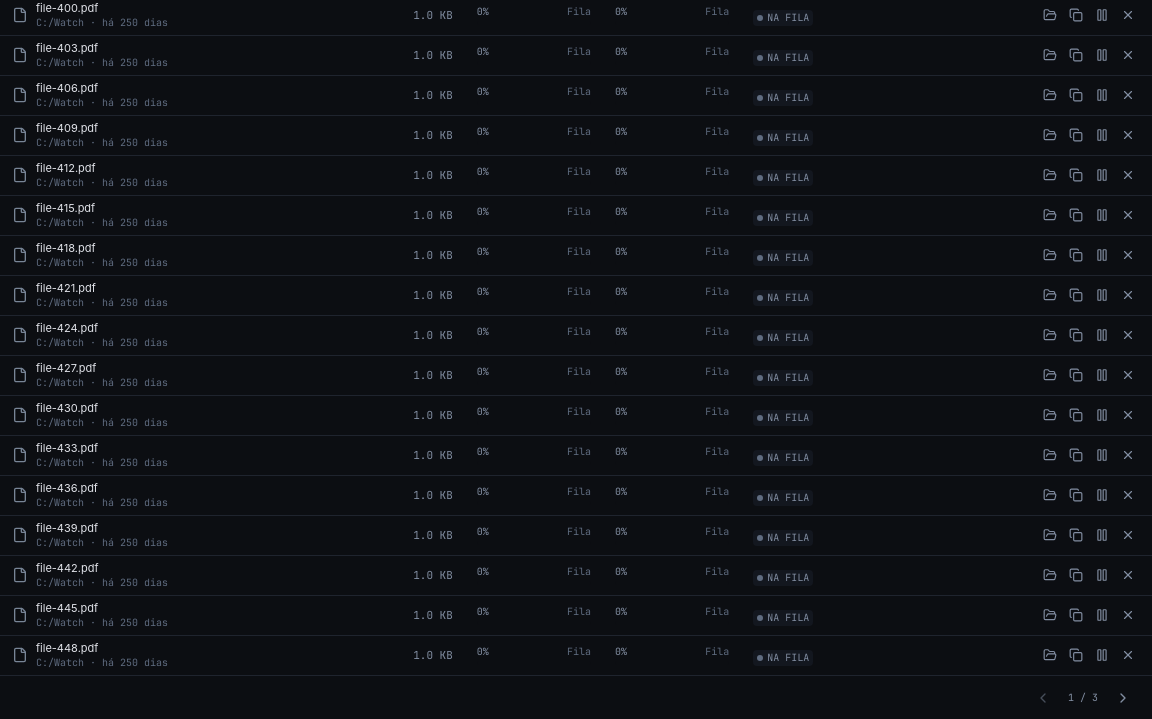
Test: JobTable pagination › switching to 'Concluídos' resets to page 0 and queries done+archived
(page scrolled)
expect the text "1 / 3" is shown: met, box [1068, 691, 1098, 705]
Note: Move off page 0 first so the reset is observable.
Click the button named "Próxima página" at (1123, 698), box [1106, 684, 1140, 712]
(page scrolled)
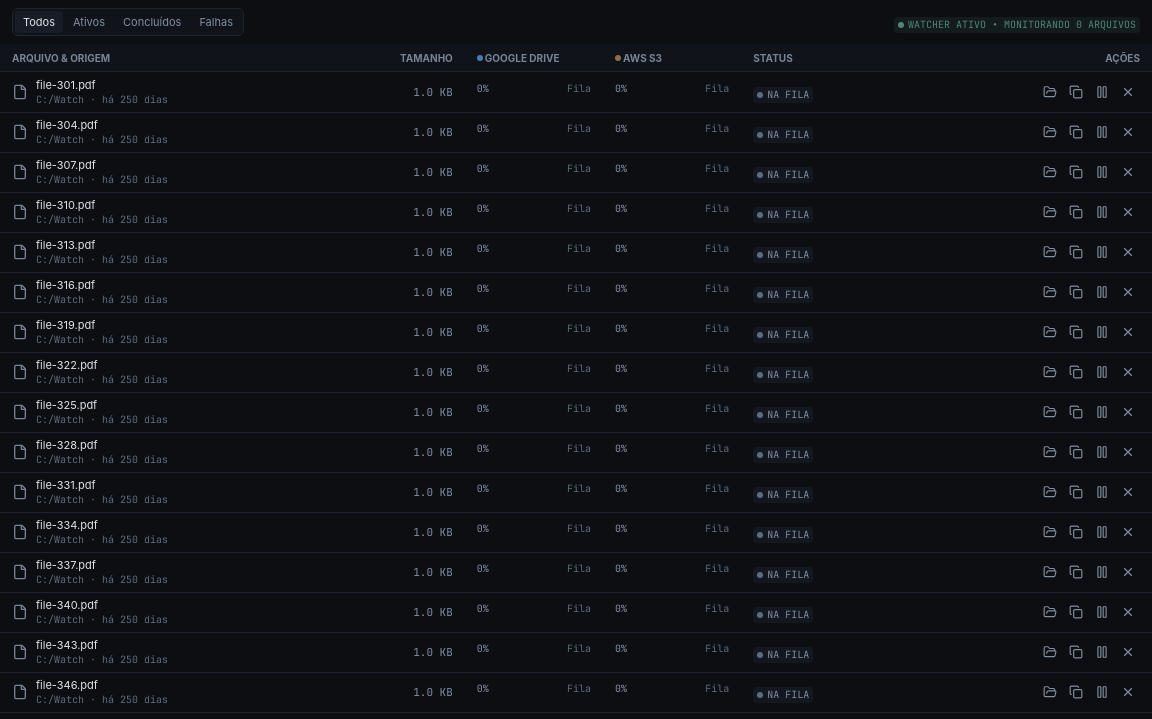
Click the button "Concluídos" at (152, 22), box [115, 11, 189, 33]
(page scrolled)
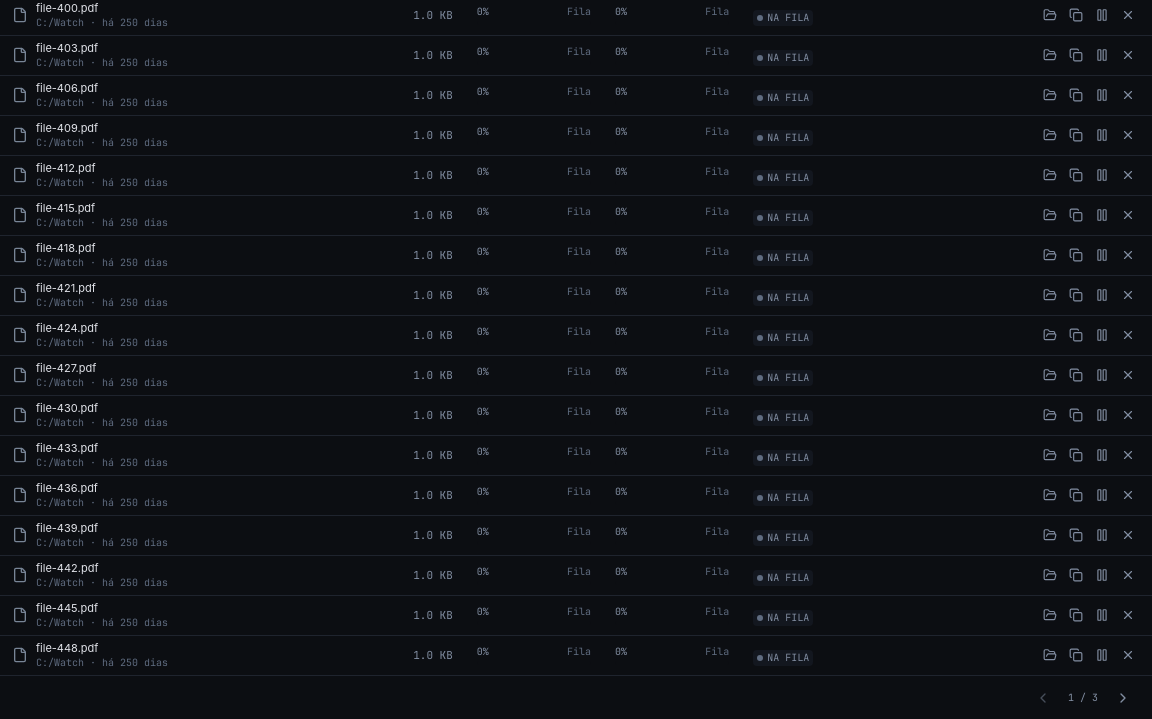
expect the text "1 / 3" is shown: met, box [1068, 691, 1098, 705]
